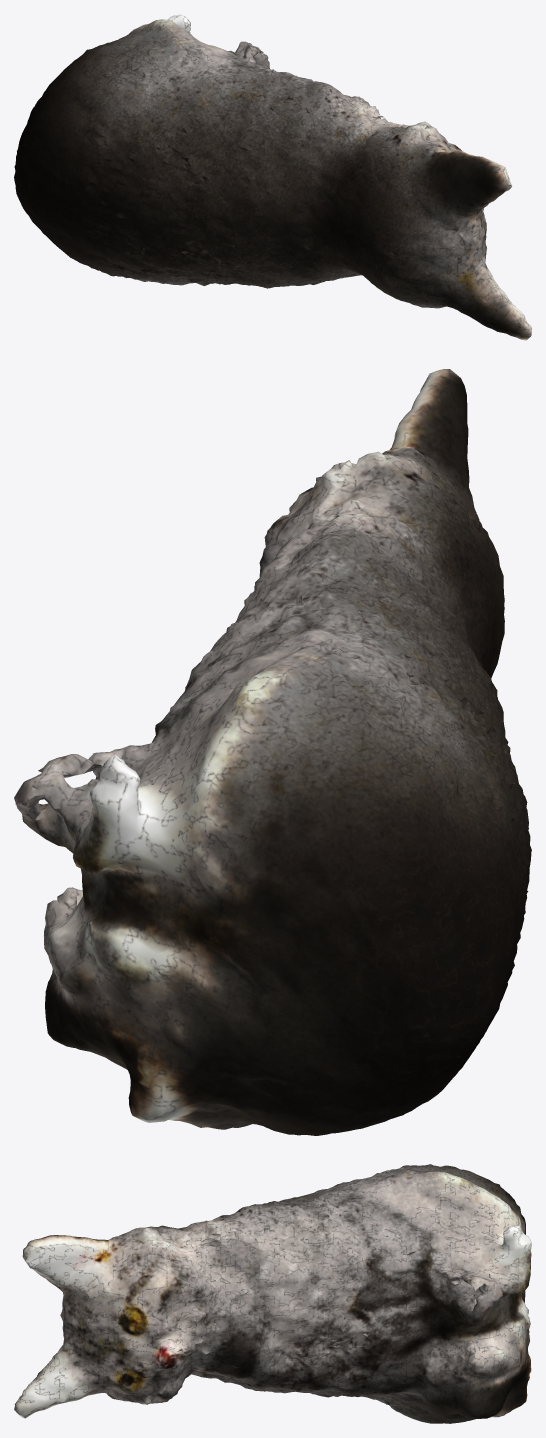
File: cat_before.glb
3 views of the same model, one above another, from view 1: azimuth 30°, elevation 25°; view 2: azimuth 150°, elevation 25°; view 3: azimuth 270°, elevation 25° (orthographic). The views are drawn at different scales.
Visible parts, largest first — view 1: model; view 2: model; view 3: model.
Boxes of the visible parts, x1,y1,x2,y2 form: model: [14, 14, 531, 340]; model: [14, 369, 531, 1135]; model: [14, 1164, 531, 1423].
Bounding box in the file's own units: 0.7137 × 0.5896 × 1.15.
1 material, 1 textured.
